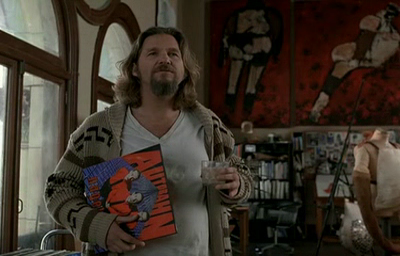face: (143, 40, 183, 90)
ms: (1, 1, 400, 256)
person: (43, 27, 253, 256)
